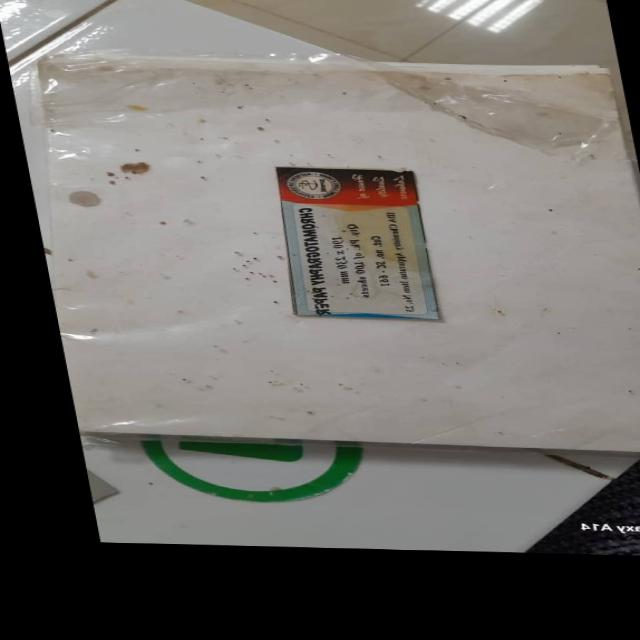Paper Chromatography: (14, 55, 640, 456)
